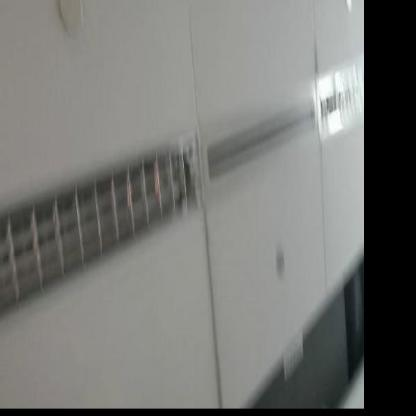light_off: (0, 122, 202, 359)
